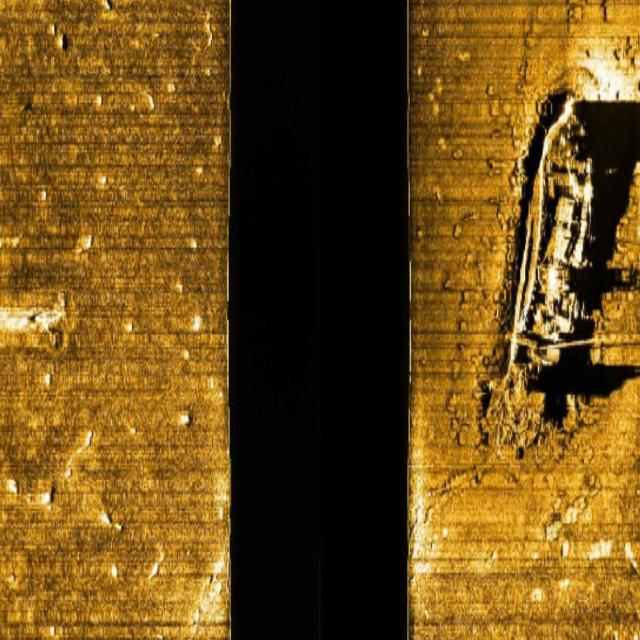ship: (506, 86, 594, 410)
